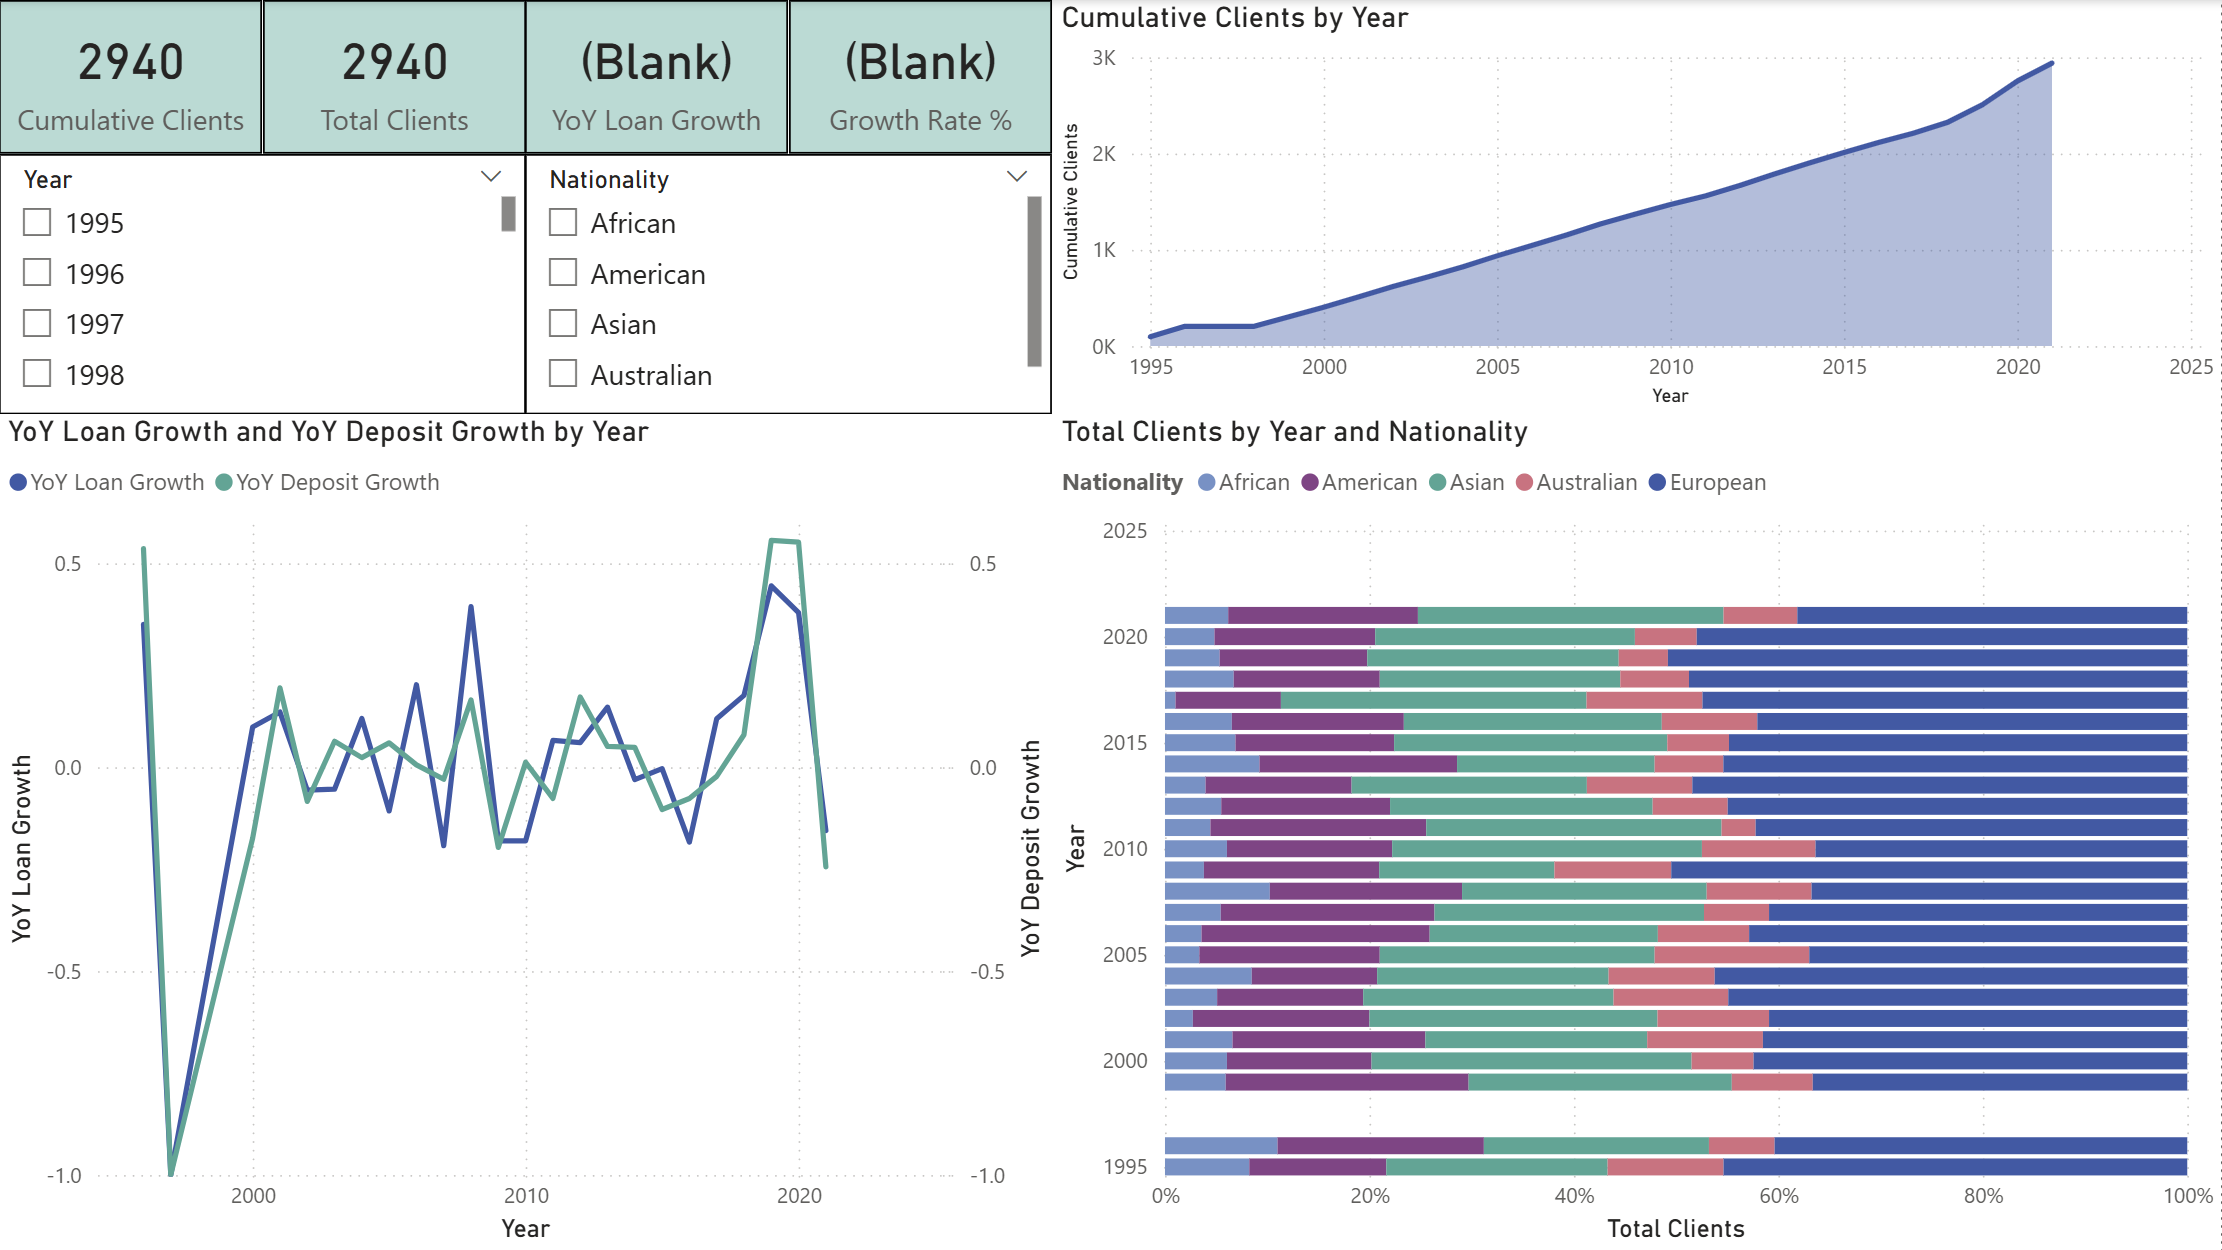

The page's visual inventory and layout, read from the dashboard file:
{"tool":"powerbi","page":{"name":"Growth Analysis","canvas":[1280,720],"ordinal":5},"visuals":[{"type":"card","fields":{"Values":["Banking.Cumulative Clients"]},"box":[0,0,151.7,88.3],"z":0},{"type":"card","fields":{"Values":["Banking.Total Clients"]},"box":[151.7,0,151.7,88.3],"z":1000},{"type":"card","fields":{"Values":["Banking.YoY Loan Growth"]},"box":[303.3,0,151.7,88.3],"z":2000},{"type":"card","fields":{"Values":["Banking.Growth Rate %"]},"box":[455,0,151.7,88.3],"z":3000},{"type":"slicer","fields":{"Values":["Date Table.Year"]},"box":[0,88.3,303.3,150],"z":4000},{"type":"slicer","fields":{"Values":["Banking.Nationality"]},"box":[303.3,88.3,303.3,150],"z":5000},{"type":"areaChart","fields":{"Category":["Date Table.Year"],"Y":["Banking.Cumulative Clients"]},"box":[606.7,0,673.3,238.3],"z":6000},{"type":"lineChart","fields":{"Category":["Date Table.Year"],"Y":["Banking.YoY Loan Growth"],"Y2":["Banking.YoY Deposit Growth"]},"box":[0,238.3,606.7,481.7],"z":7000},{"type":"hundredPercentStackedBarChart","fields":{"Category":["Banking.Year"],"Y":["Banking.Total Clients"],"Series":["Banking.Nationality"]},"box":[606.7,238.3,673.3,481.7],"z":8000}]}

Visuals, with their boxes in screenshot pixels (x1, y1, x2, y2), scaled from the page's 1280x720 canvas onto the 2222x1250 screenshot:
card - Banking.Cumulative Clients: (left=0, top=0, right=263, bottom=153)
card - Banking.Total Clients: (left=263, top=0, right=527, bottom=153)
card - Banking.YoY Loan Growth: (left=527, top=0, right=790, bottom=153)
card - Banking.Growth Rate %: (left=790, top=0, right=1053, bottom=153)
slicer - Date Table.Year: (left=0, top=153, right=527, bottom=414)
slicer - Banking.Nationality: (left=527, top=153, right=1053, bottom=414)
areaChart - Date Table.Year x Banking.Cumulative Clients: (left=1053, top=0, right=2221, bottom=414)
lineChart - Date Table.Year x Banking.YoY Loan Growth: (left=0, top=414, right=1053, bottom=1249)
hundredPercentStackedBarChart - Banking.Year x Banking.Total Clients: (left=1053, top=414, right=2221, bottom=1249)
